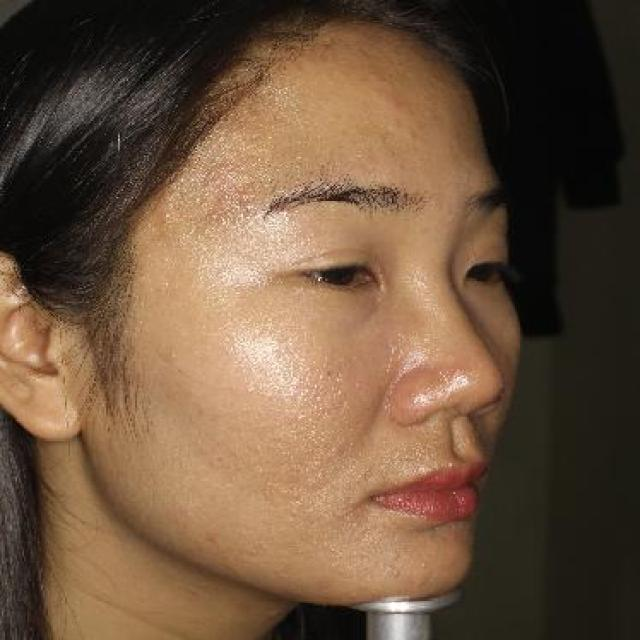nodules: (385, 569, 406, 580), (205, 209, 219, 223), (389, 551, 406, 562), (226, 380, 238, 395), (246, 198, 257, 214), (245, 383, 258, 395), (414, 562, 435, 569), (199, 182, 212, 193), (238, 190, 251, 199), (327, 545, 337, 556)
